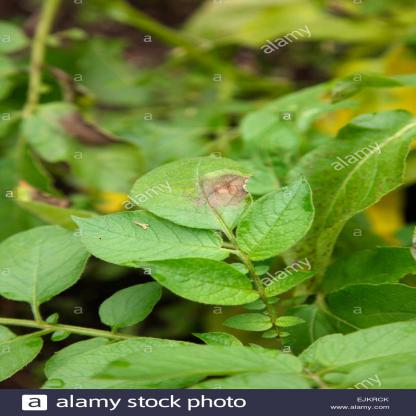potato leaf late blight: (125, 151, 262, 239)
